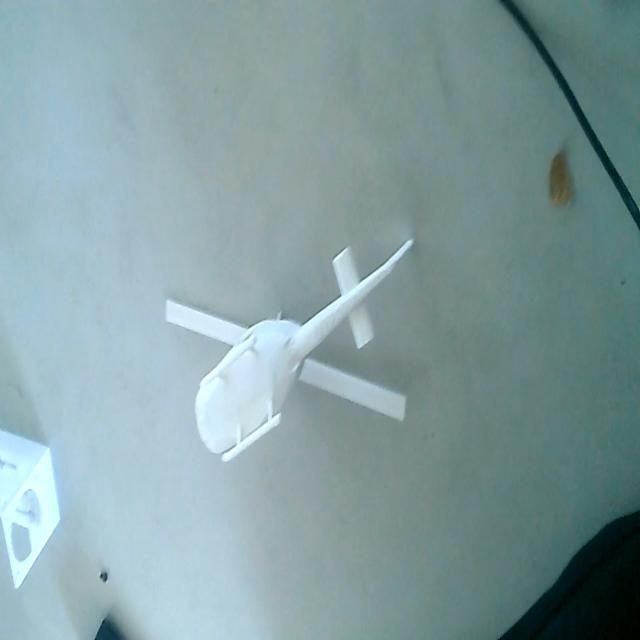Helicopter: (160, 233, 418, 464)
